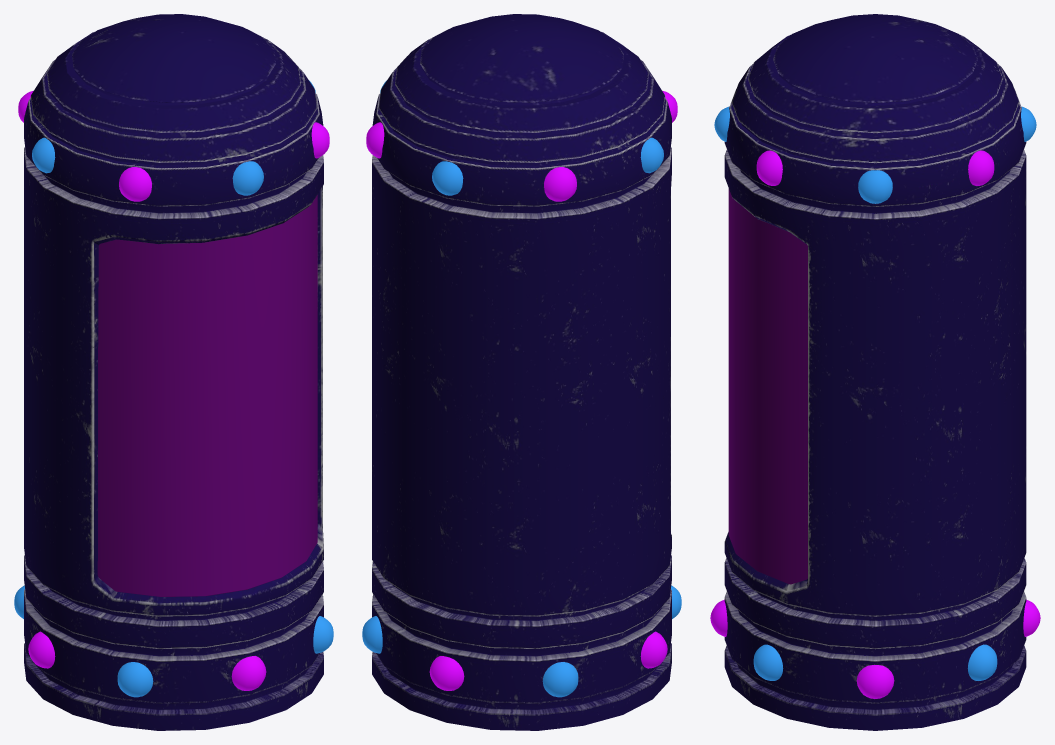
Rendered from Checkpoint.fbx.
3 views of the same model, side by side, from view 1: azimuth 30°, elevation 25°; view 2: azimuth 150°, elevation 25°; view 3: azimuth 270°, elevation 25° (orthographic).
Visible parts, largest first — view 1: defaultMaterial, defaultMaterial.001; view 2: defaultMaterial; view 3: defaultMaterial, defaultMaterial.001.
Part boxes in pixels (x1,y1,x2,y2): defaultMaterial: (14,14,333,730); defaultMaterial.001: (97,195,317,596); defaultMaterial: (362,14,681,730); defaultMaterial: (710,14,1040,730); defaultMaterial.001: (728,188,807,584).
Size of the model in its own units: 219 by 464 by 219.
